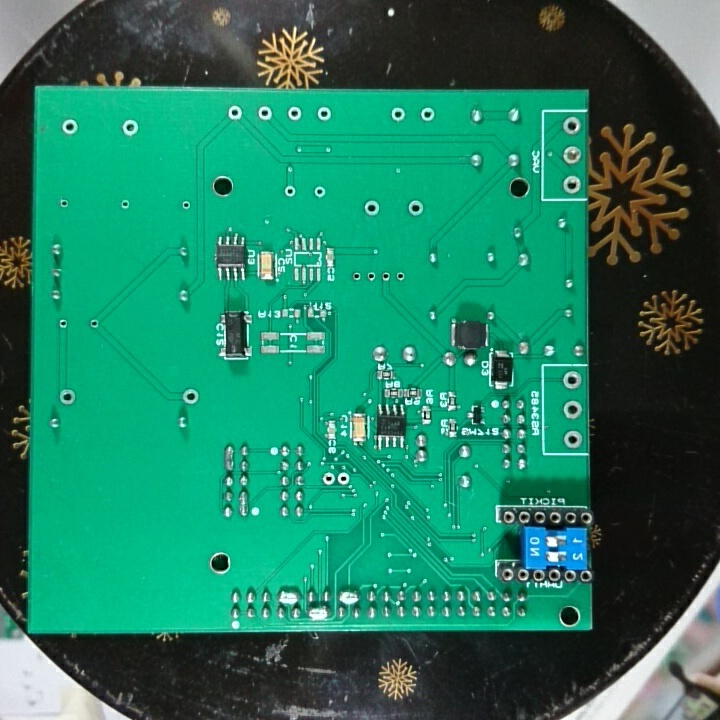F: (561, 429, 582, 452), (559, 115, 582, 136), (560, 369, 582, 390), (560, 144, 581, 166), (562, 399, 582, 422), (119, 118, 142, 138), (361, 197, 381, 220), (314, 102, 334, 124), (561, 173, 581, 195), (57, 386, 78, 406), (60, 116, 79, 138), (405, 197, 424, 219), (179, 386, 199, 406), (255, 103, 275, 123), (225, 103, 245, 122), (285, 104, 305, 123), (389, 105, 407, 123), (419, 104, 436, 123), (319, 469, 337, 486), (281, 183, 299, 200), (177, 196, 194, 213), (310, 182, 325, 201), (55, 315, 71, 332), (86, 315, 102, 332), (337, 469, 351, 488), (392, 269, 408, 285), (117, 196, 132, 213), (348, 269, 363, 286), (57, 195, 71, 212), (365, 269, 379, 285), (379, 269, 391, 285)
P: (336, 587, 362, 606), (306, 603, 331, 622), (222, 442, 236, 473), (277, 587, 302, 604), (237, 489, 251, 519)
